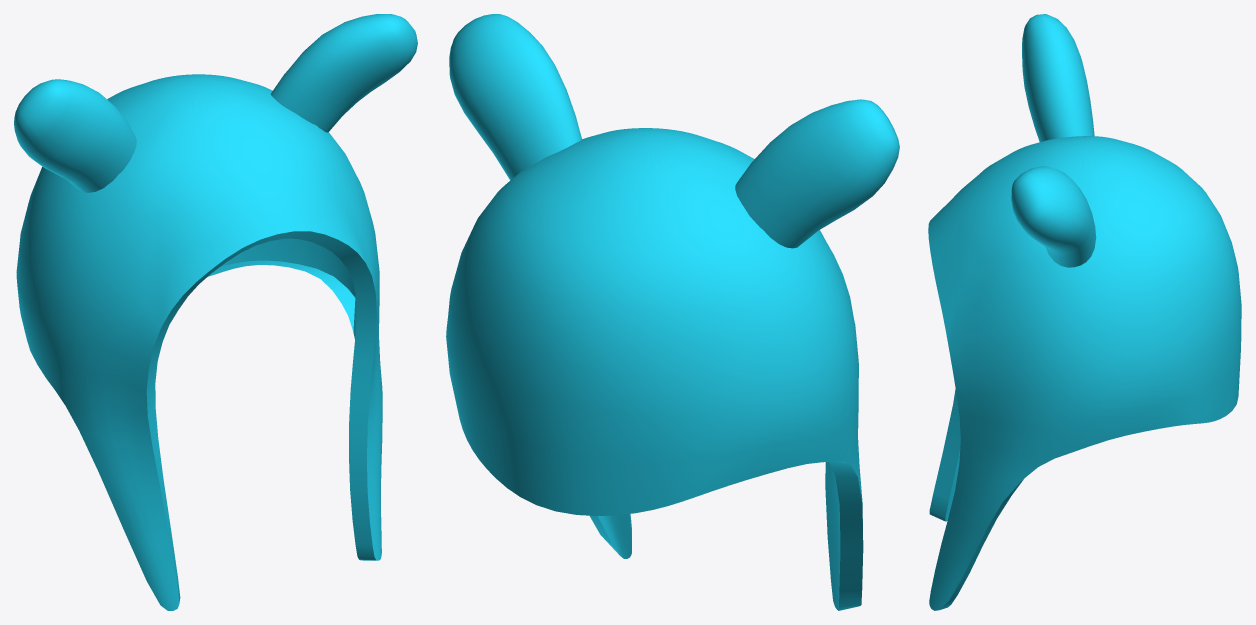
Rendered from Rabbit.fbx.
The picture shows the model from 3 angles, left to right: view 1: azimuth 30°, elevation 25°; view 2: azimuth 150°, elevation 25°; view 3: azimuth 270°, elevation 25°; orthographic projection. The views are drawn at different scales.
Visible parts, largest first — view 1: Rabbit.002; view 2: Rabbit.002; view 3: Rabbit.002.
Part boxes in pixels (x1,y1,x2,y2): Rabbit.002: [14, 14, 417, 610]; Rabbit.002: [446, 14, 899, 610]; Rabbit.002: [928, 14, 1241, 610].
Bounding box in the file's own units: 146 × 178 × 107.
